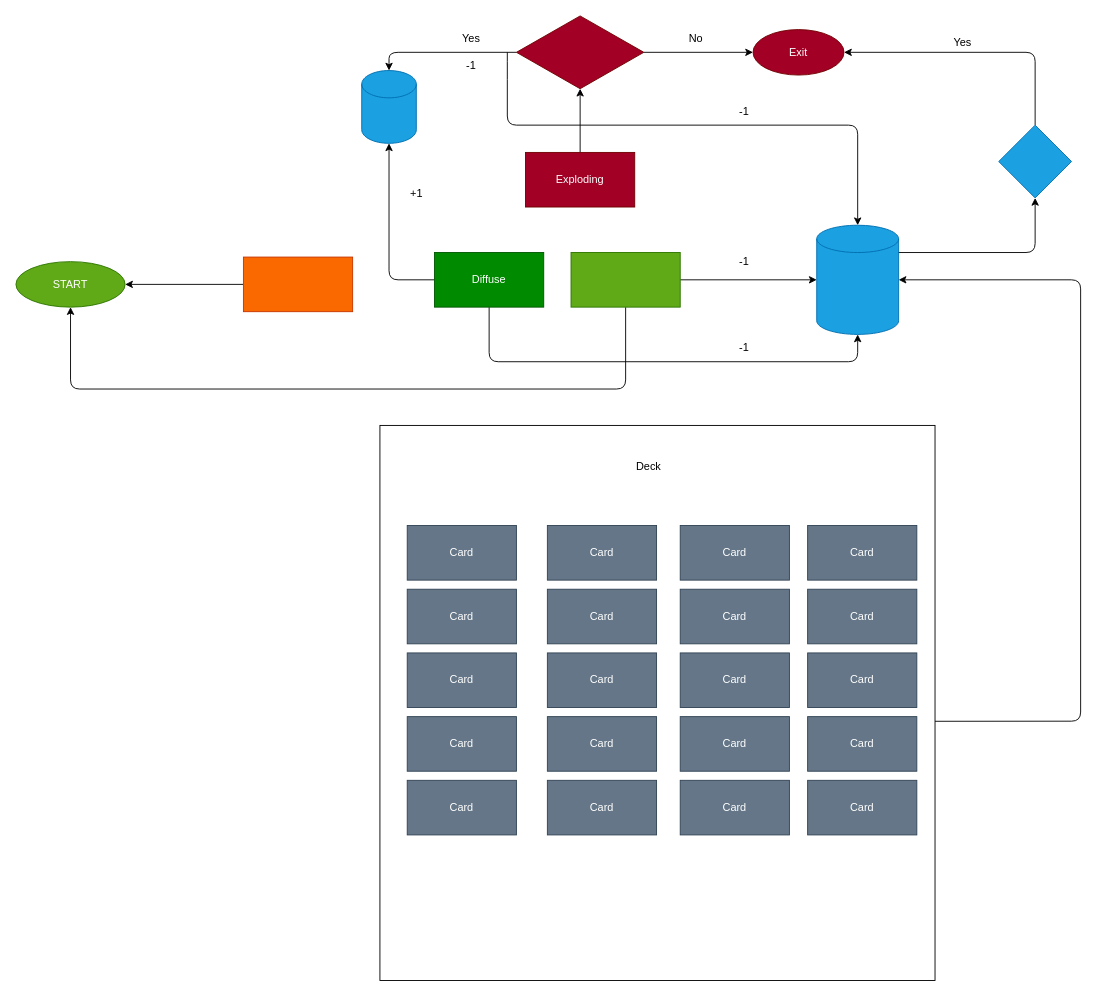
The diagram is 1104 pixels wide and 996 high, and some of its shapes have lost their labels. The shapes that lost their labels are listed below. From the top down, each one's centre as x and y in pixels, then its label:
At point 580,52: "Check for Diffuse card".
At point 388,106: "Diffuse Stack".
At point 1035,161: "Deck == 0".
At point 298,284: "Shuffle".
At point 625,279: "Cat Card".
At point 857,279: "Deck (Max: 5)".
